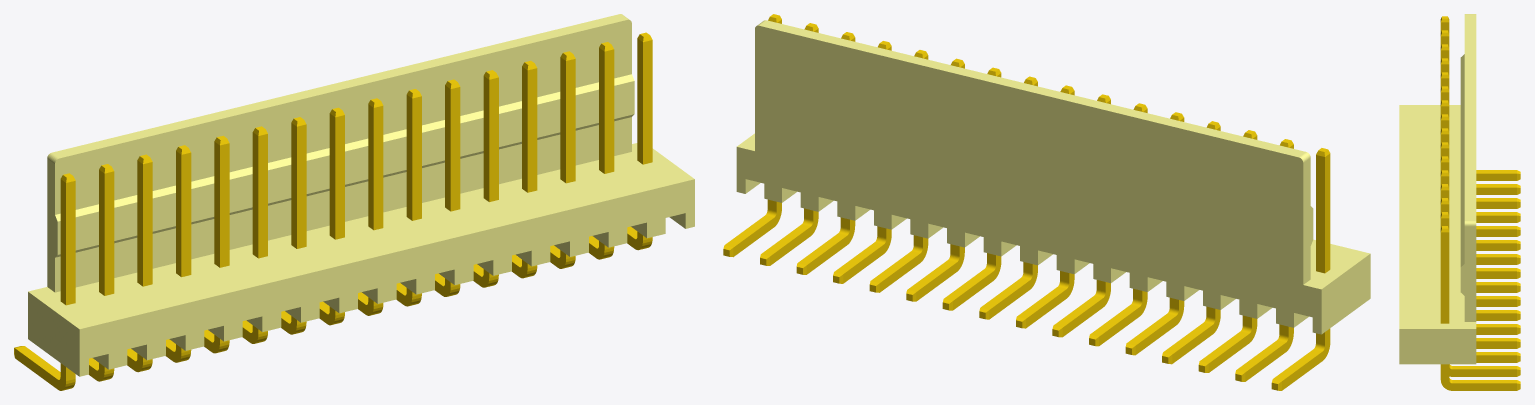
File: DS1070-16MR (WF-16RA CONNFLY).obj
3 views of the same model, side by side, from view 1: azimuth 30°, elevation 25°; view 2: azimuth 150°, elevation 25°; view 3: azimuth 270°, elevation 25° (orthographic). The views are drawn at different scales.
Visible parts, largest first — view 1: DS1070-16MR_(WF-16RA_CONNFLY); view 2: DS1070-16MR_(WF-16RA_CONNFLY); view 3: DS1070-16MR_(WF-16RA_CONNFLY).
Boxes of the visible parts, <box> form: DS1070-16MR_(WF-16RA_CONNFLY): <box>14,14,694,390</box>; DS1070-16MR_(WF-16RA_CONNFLY): <box>723,14,1370,390</box>; DS1070-16MR_(WF-16RA_CONNFLY): <box>1399,14,1520,390</box>.
Size of the model in its own units: 0.0219 by 0.00759 by 0.00501.
